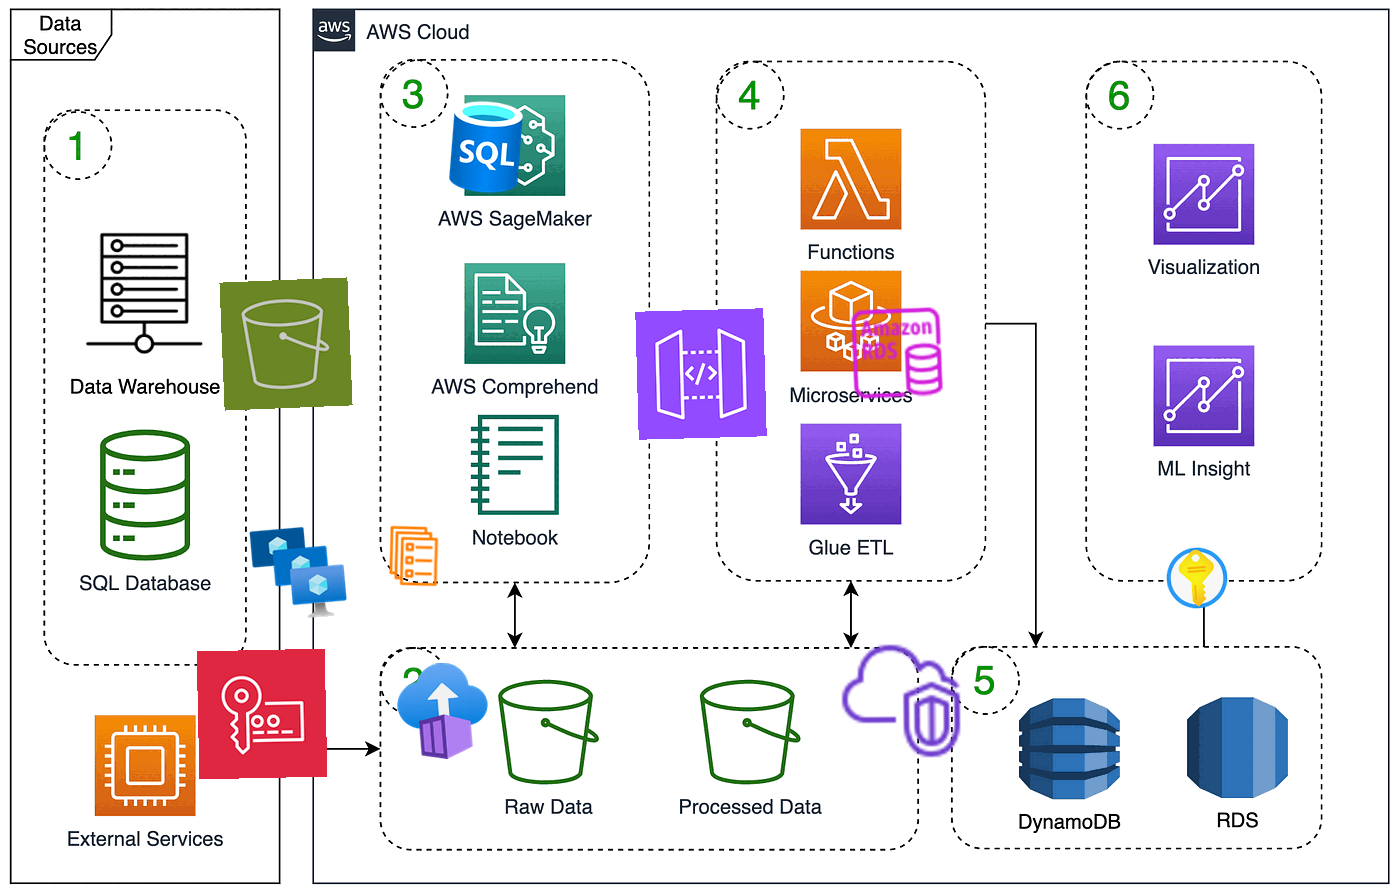aws_amazon_api_gateway: (635, 308, 767, 440)
aws_amazon_simple_storage_service: (219, 277, 353, 411)
aws_aurora_amazon_rds_instance: (847, 303, 947, 403)
aws_elastic_container_service_service: (381, 523, 447, 589)
aws_key_management_service: (196, 648, 328, 780)
aws_vpc_virtual_private_cloud_vpc: (836, 636, 966, 766)
azure_container_instances: (391, 659, 495, 763)
azure_key_vaults: (1162, 543, 1232, 613)
azure_sql_database: (434, 95, 538, 199)
azure_vm_scale_sets: (245, 519, 349, 623)
